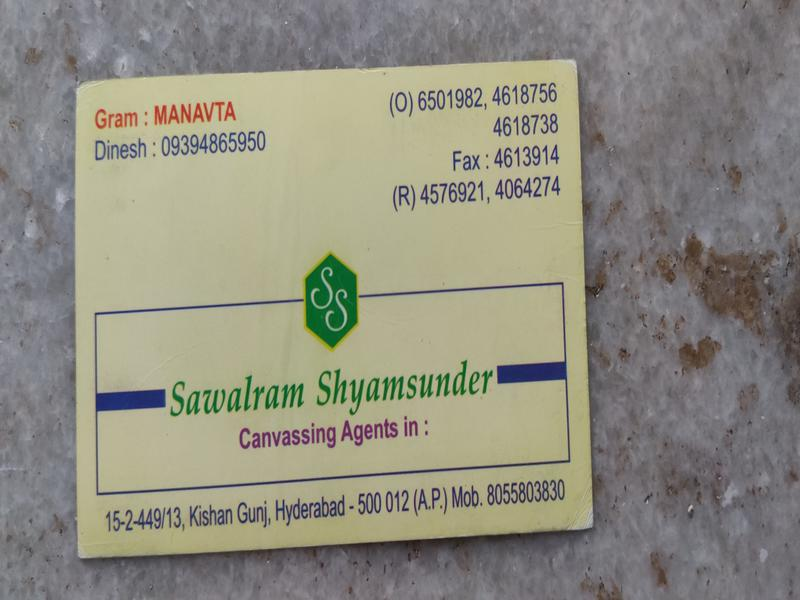card: (74, 61, 597, 557)
